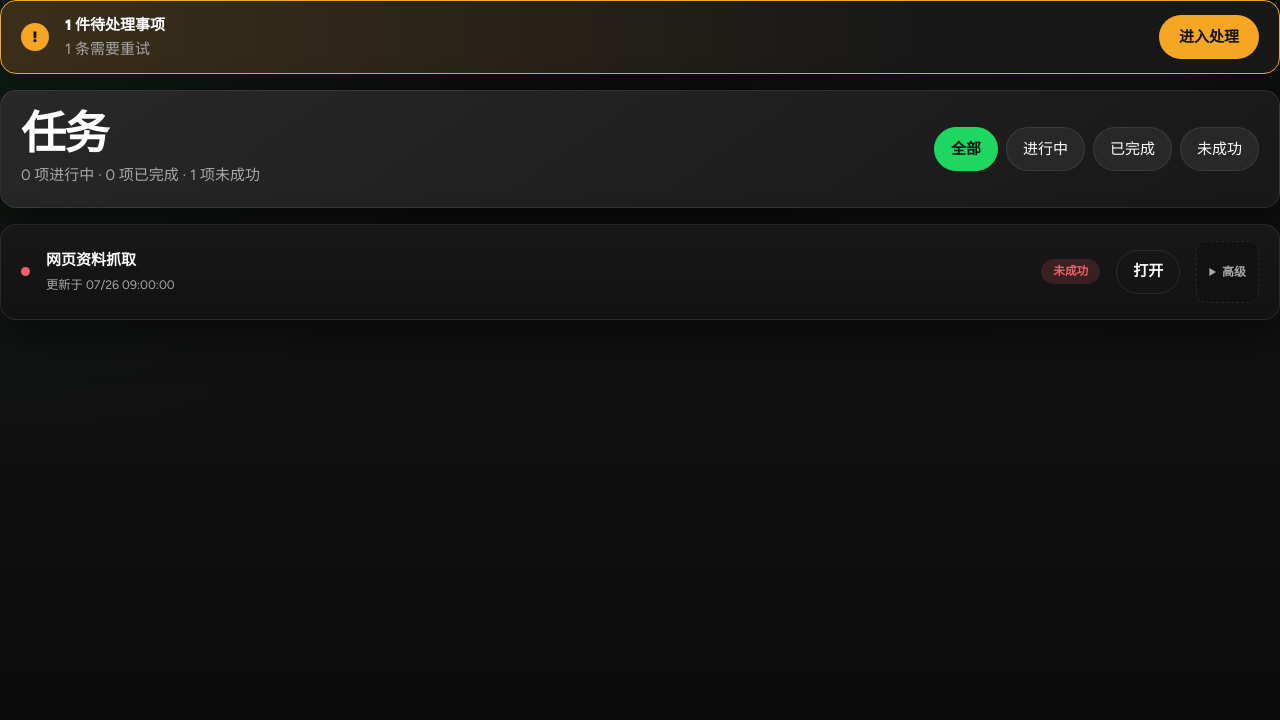
Scenario: TaskList F149 Tasks v2 › 非零待处理事项显著可进入，0项时不占首屏
Check: the text "1 件待处理事项" is shown, box [65,16,165,34]
Click the text "进入处理": (1209, 37) [1159,15,1259,59]
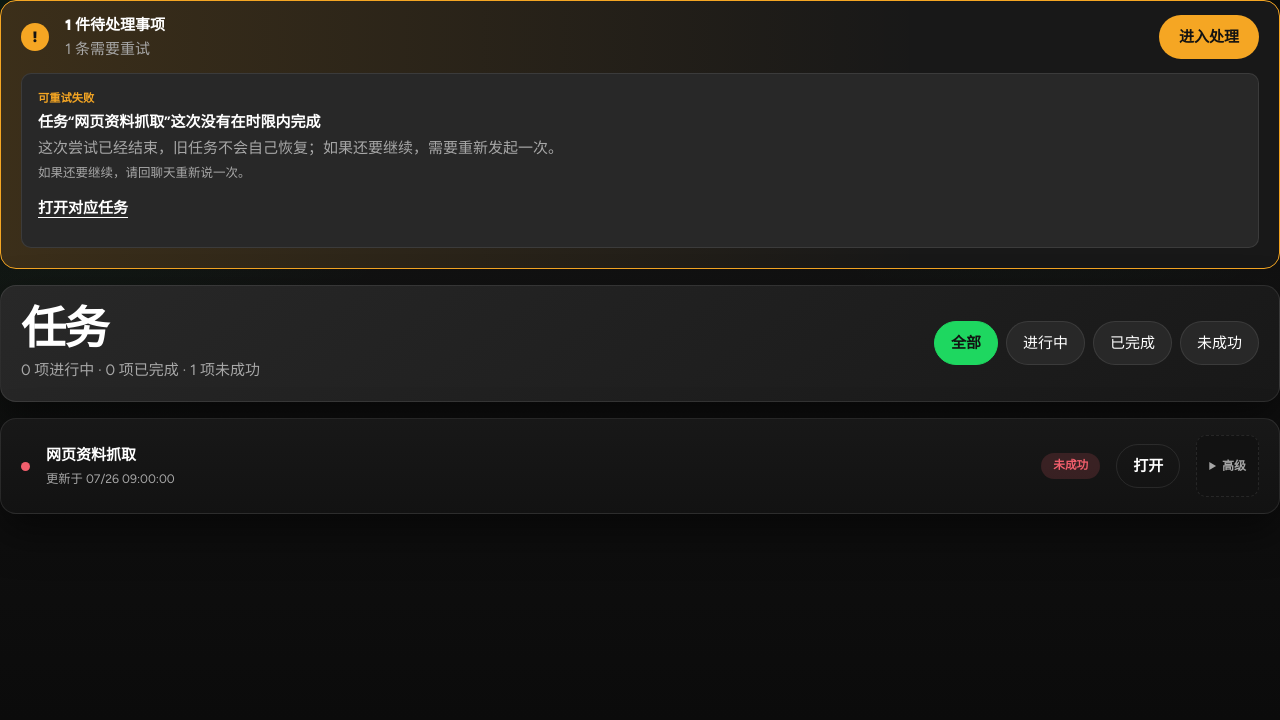
Check: the text "任务“网页资料抓取”这次没有在时限内完成" is shown, box [38,113,320,131]
